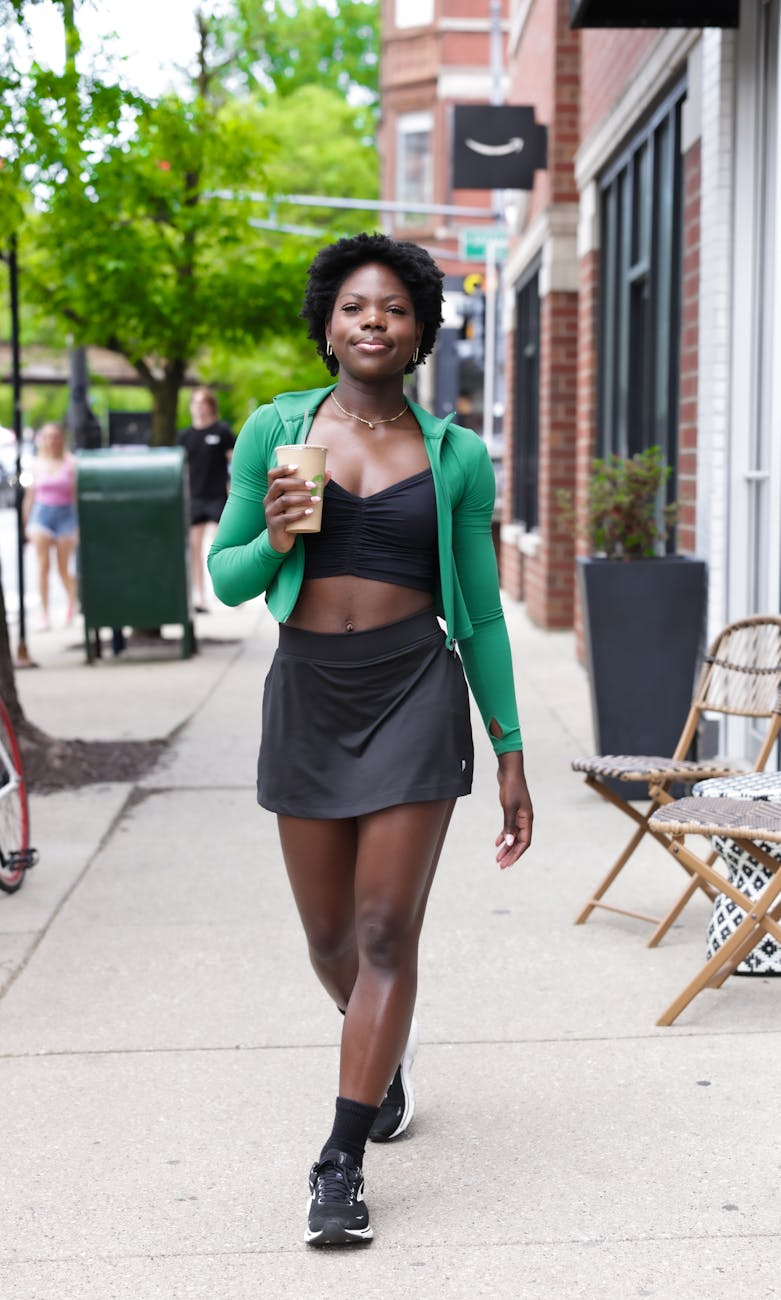crop_top: (267, 393, 480, 596)
short_medium_skirt: (242, 606, 490, 823)
